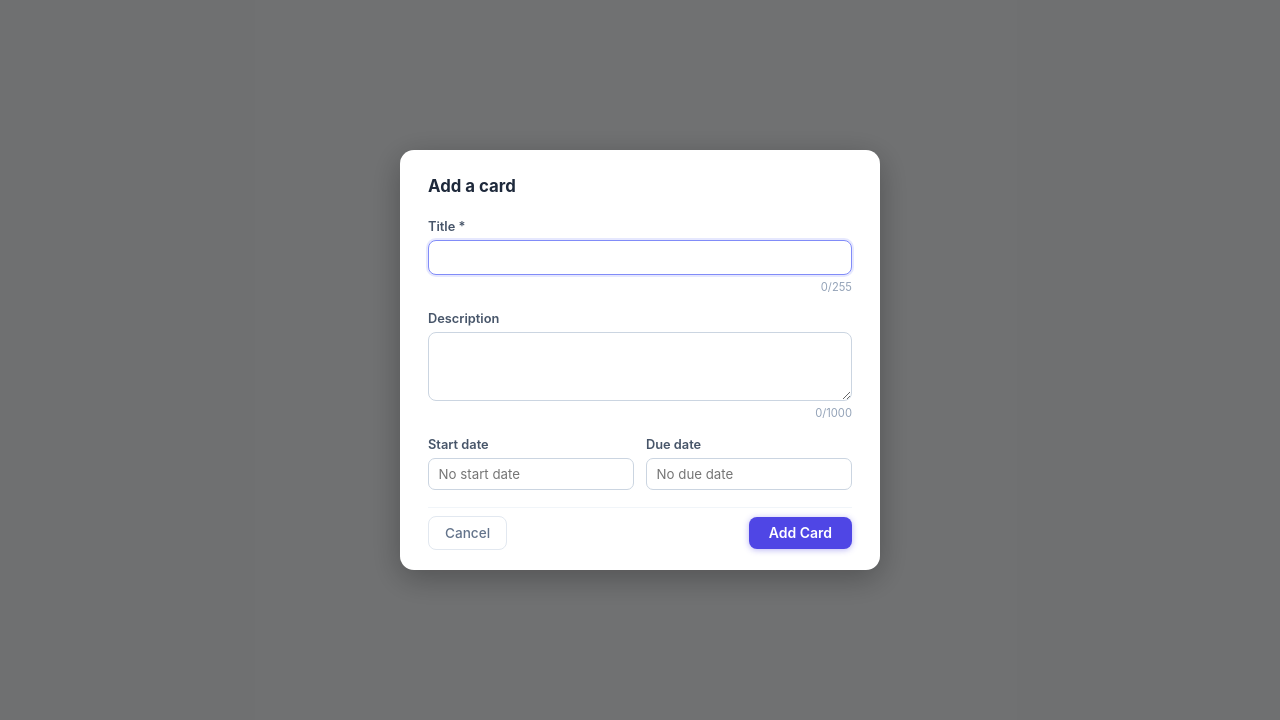
Test: CardModal — description validation › shows character counter for description
In the text box labelled "Description": point(640, 366) [428,332,852,401], type "hi"
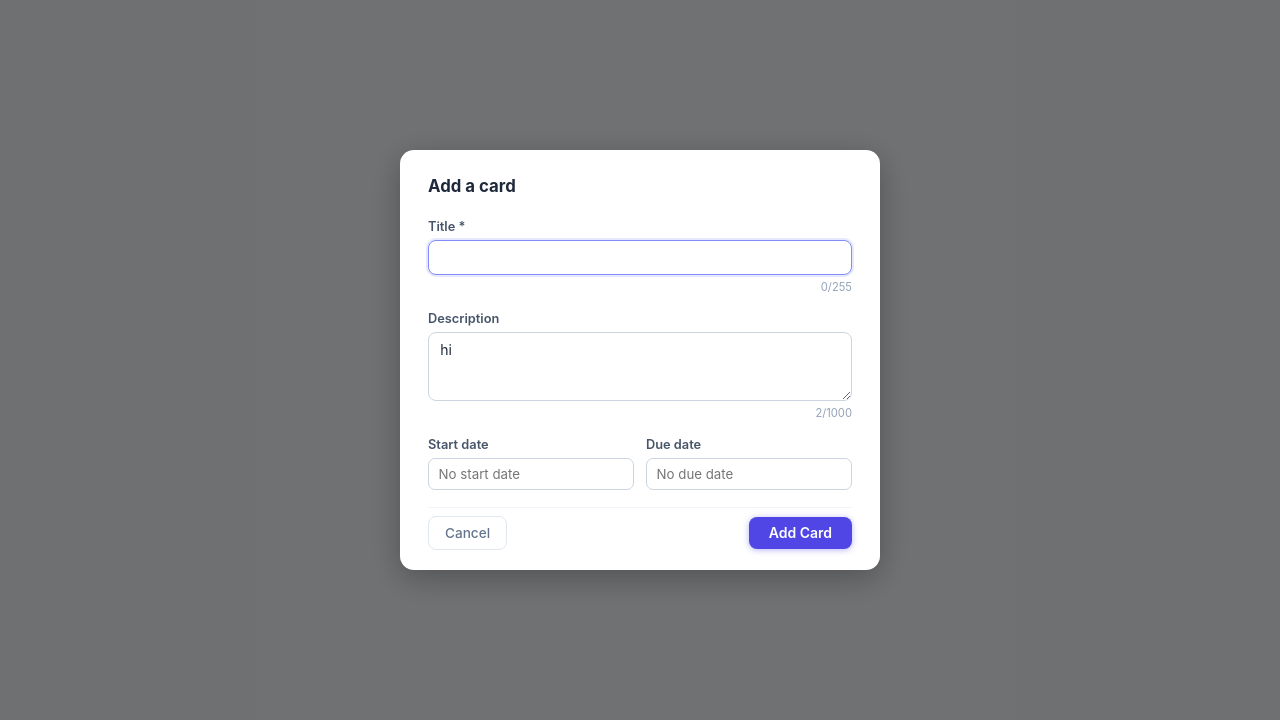
Check: the text "2/1000" is shown, box [815,406,852,420]
